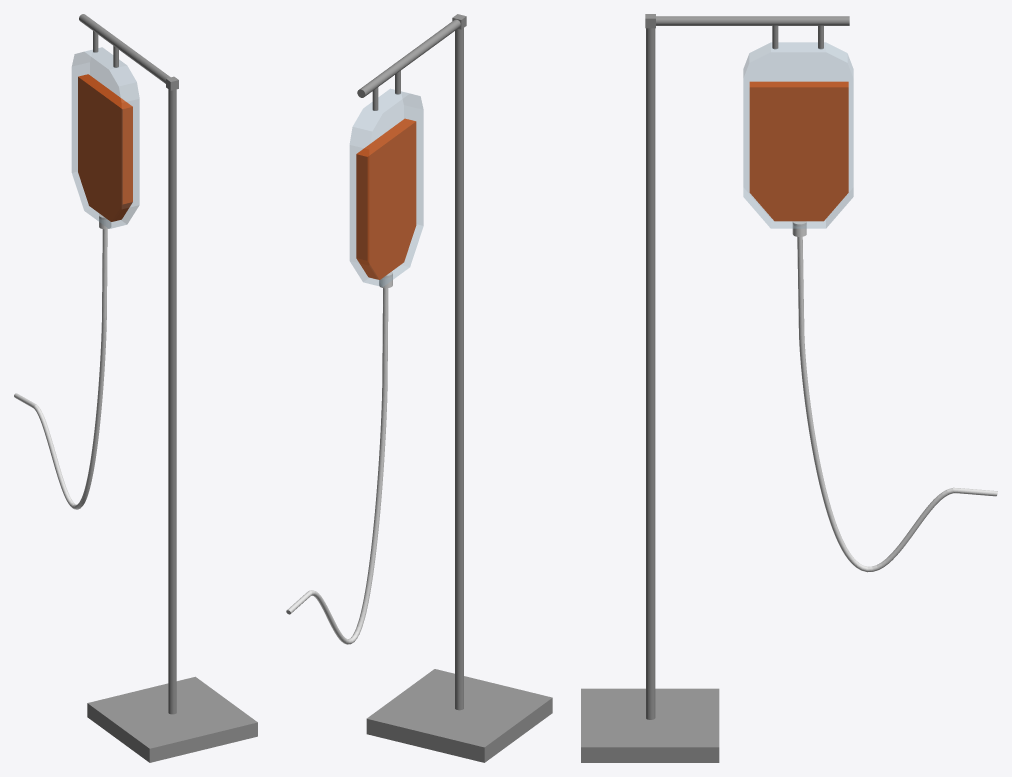
File: iv drip.fbx
The picture shows the model from 3 angles, left to right: view 1: azimuth 30°, elevation 25°; view 2: azimuth 150°, elevation 25°; view 3: azimuth 270°, elevation 25°; orthographic projection. The views are drawn at different scales.
Parts seen in each view (by area): view 1: stand, bag, juice, pipe; view 2: stand, bag, juice, pipe; view 3: stand, bag, juice, pipe.
Part boxes in pixels (x1,y1,x2,y2): stand: [79, 14, 257, 762]; bag: [72, 47, 139, 228]; juice: [78, 74, 132, 221]; pipe: [14, 229, 107, 509]; stand: [357, 14, 552, 762]; bag: [350, 89, 423, 286]; juice: [356, 118, 416, 279]; pipe: [286, 288, 388, 644]; stand: [581, 14, 849, 762]; bag: [743, 42, 853, 228]; juice: [749, 81, 848, 221]; pipe: [797, 237, 997, 572].
Bounding box in the file's own units: 877 × 5016 × 2642.
